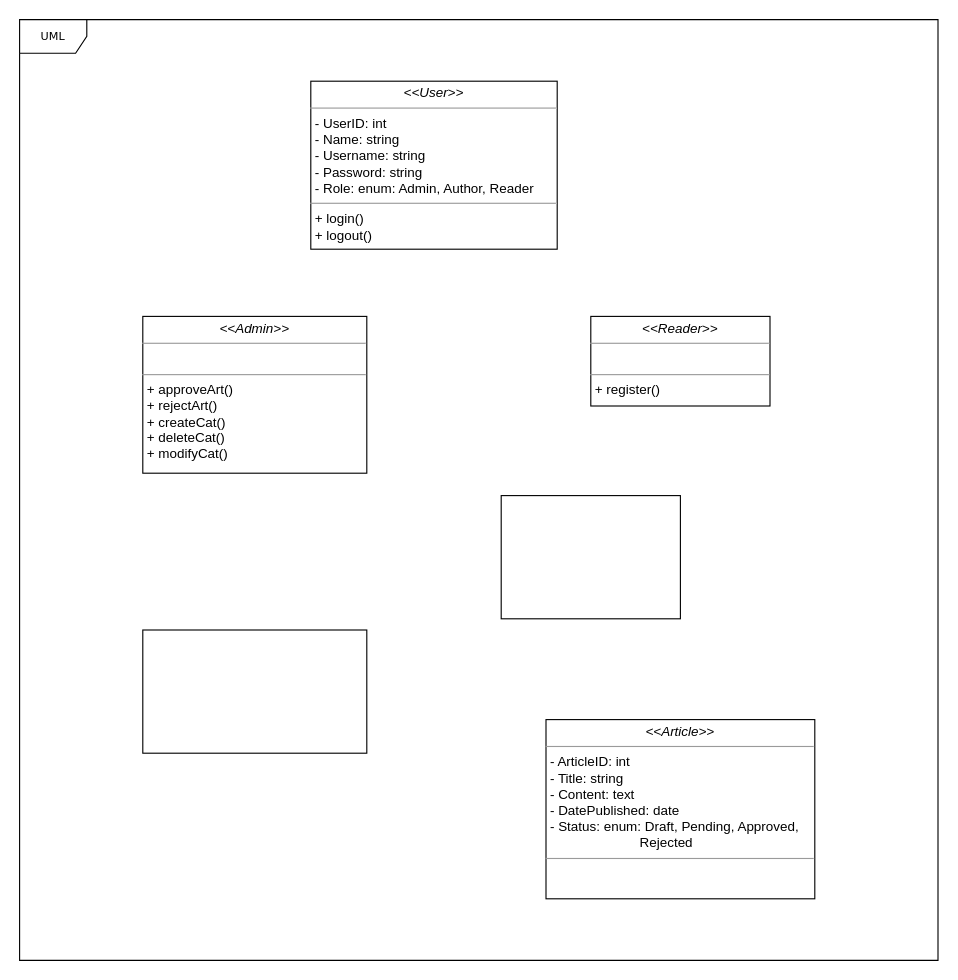
Some shapes in this 958 by 980 pixel diagram are drawn without their labels. Here are the shapes that lost their labels. From the top down, the box of each, then its label:
(500, 494, 680, 619): <<Author>> + createArt() + modifyArt() + deleteArt()
(142, 629, 367, 753): << Category >> - CategoryID: int - Name: string
